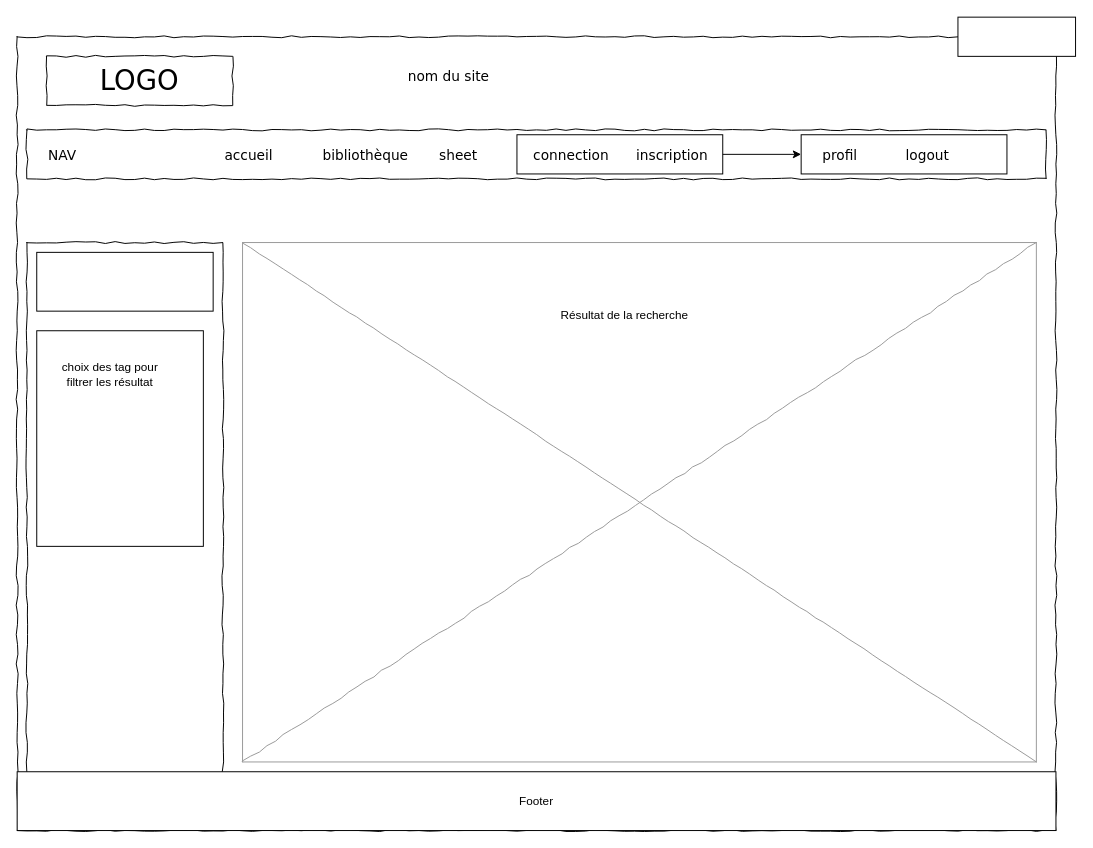
Image size: 1093x848. Some labels were removed from this diagram. The shapes that lost their labels are listed below. From the top down, each one's box as (x1, y1, x2, y2) in pixels, then its label:
(957, 16, 1076, 56): BIBLIOTHEQUE DESKTOP
(36, 251, 213, 311): zone de recherche
